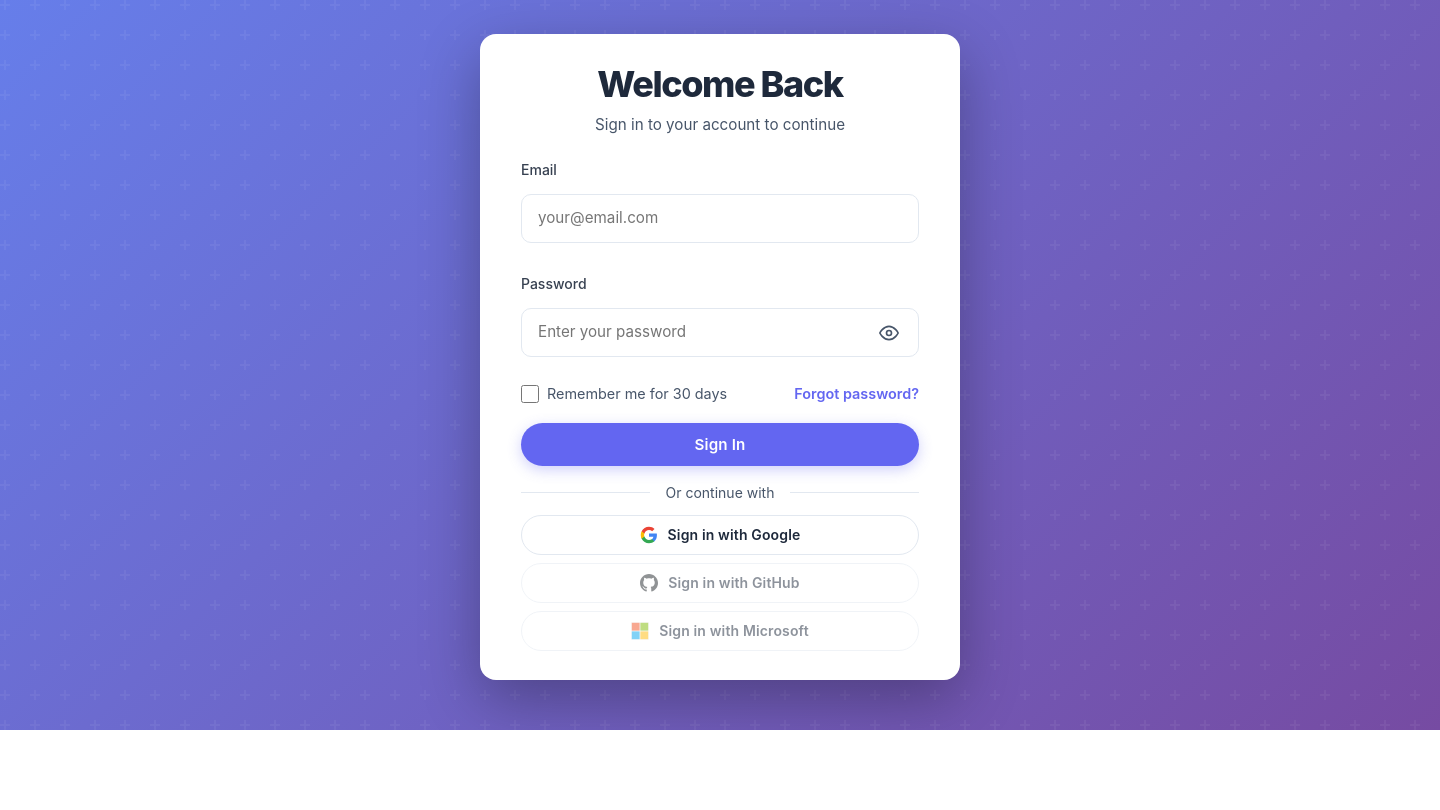
Scenario: Login Page › Form validation › shows error when password is too short
In the password field labelled "Password": (720, 333) [521,308,919,357], type "short"
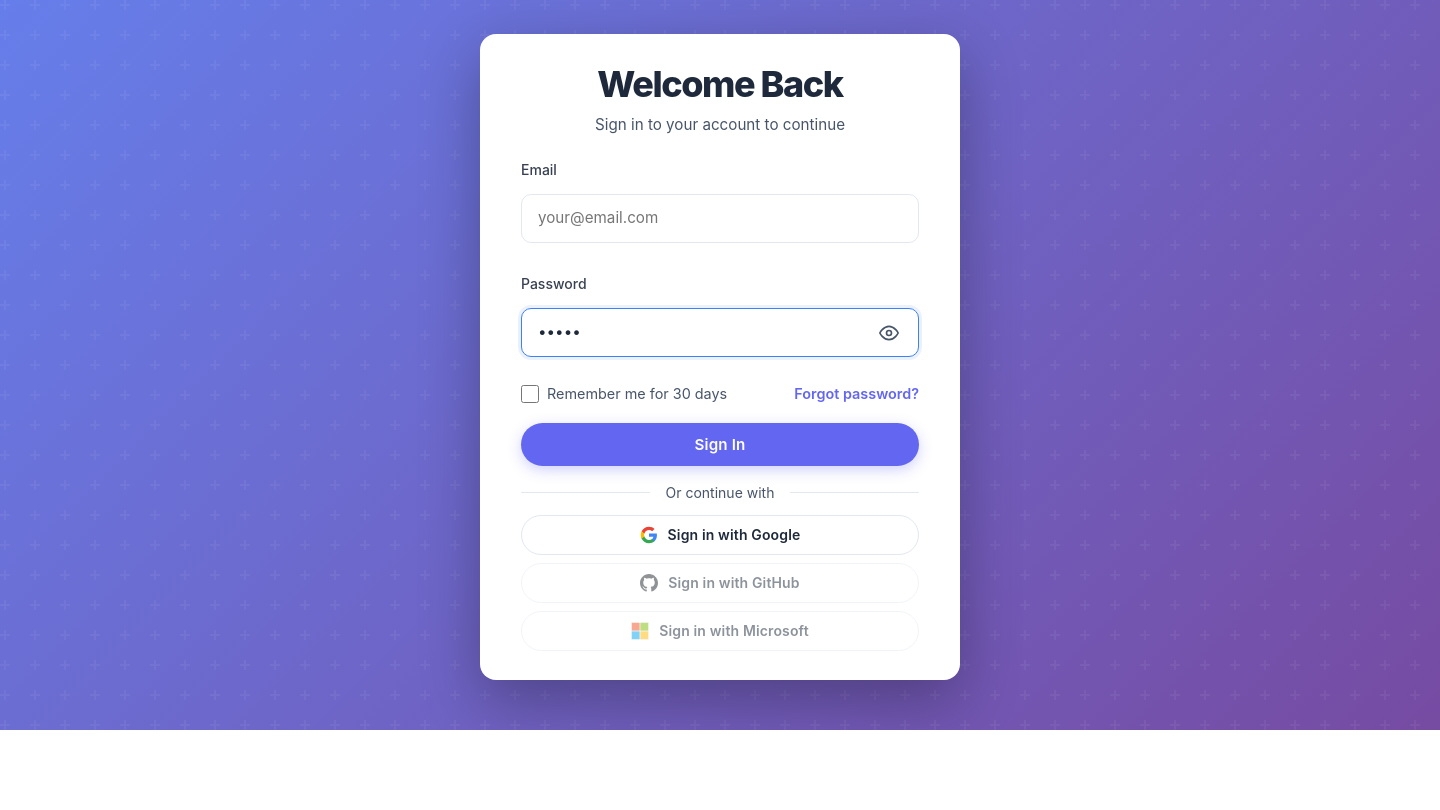
Click the button "Sign In": (720, 444) [521,423,919,466]
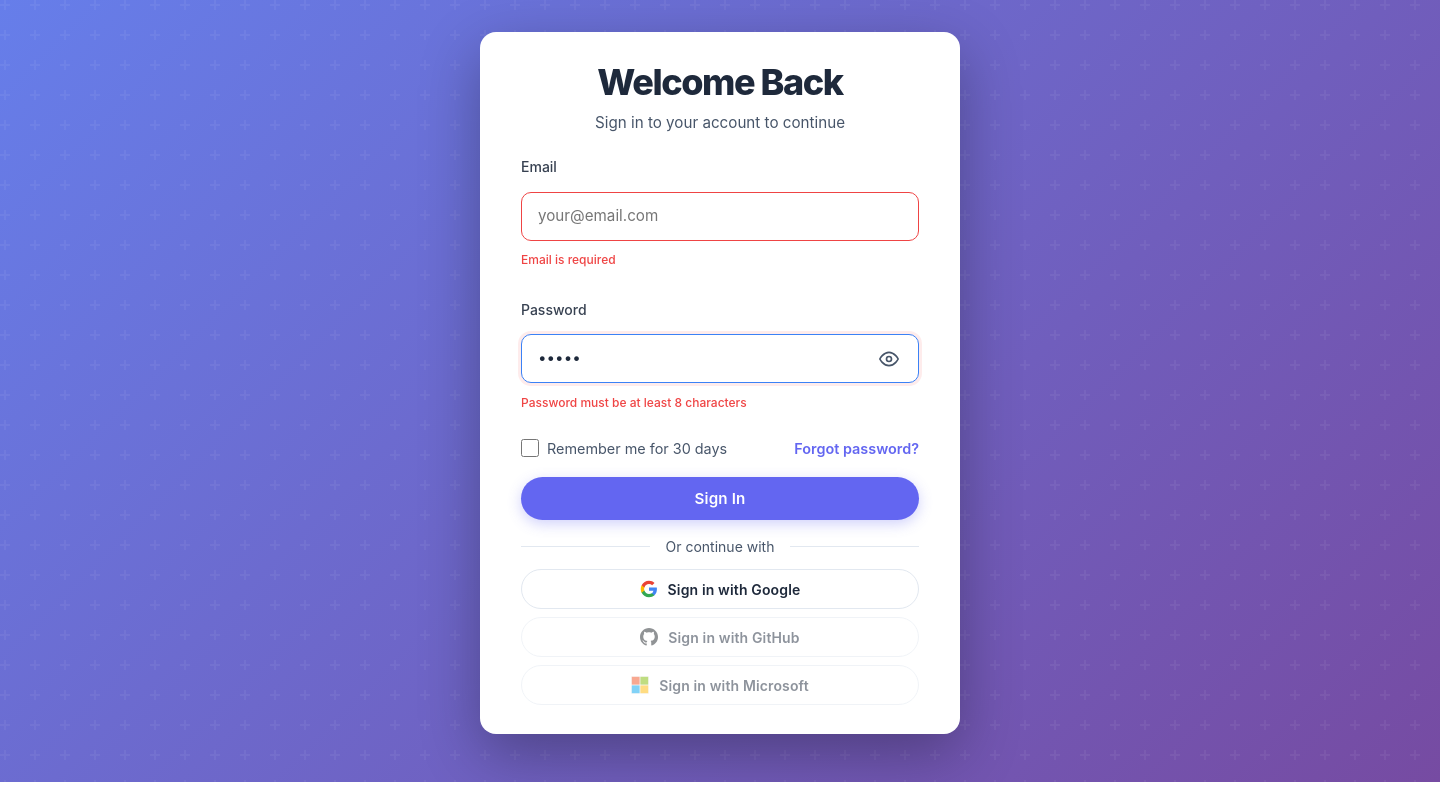
Check: the text "Password must be at least 8 characters" is shown, box [521,394,747,410]
